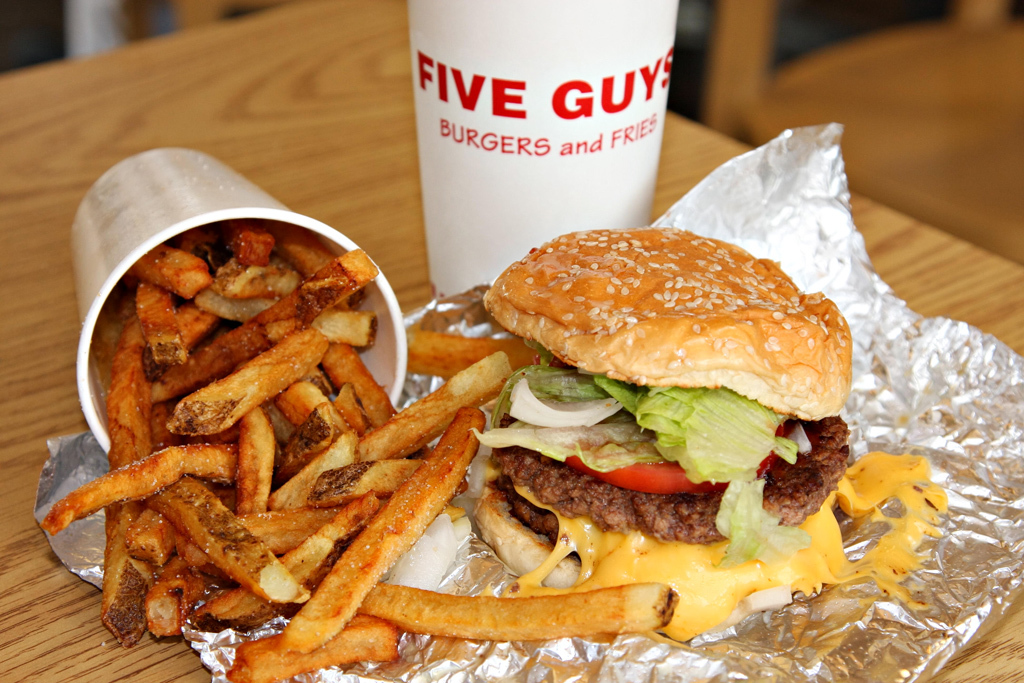French fries: (46, 235, 684, 672)
